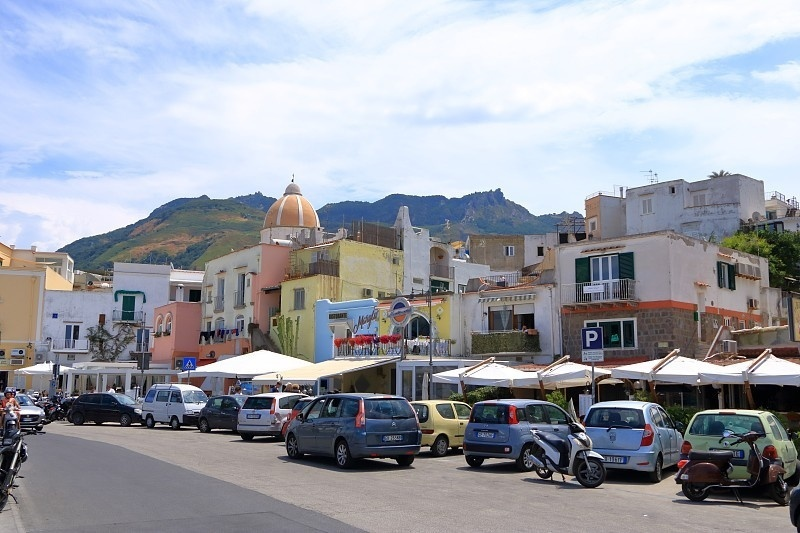non-vehicle: (673, 425, 780, 504), (523, 422, 601, 484), (0, 422, 27, 515)
